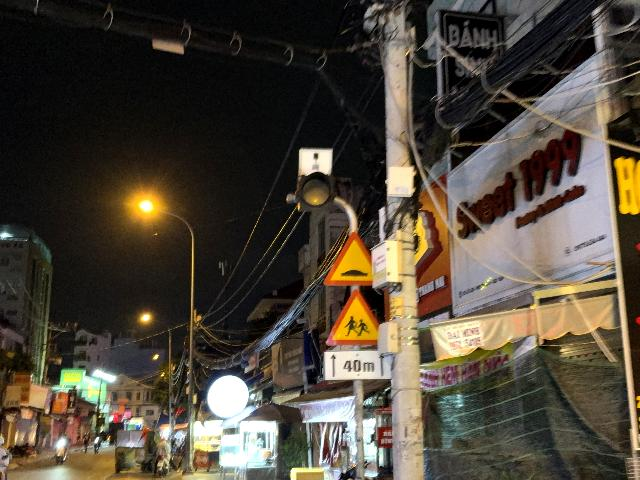duong-co-go-giam-toc: (324, 232, 371, 285)
tre-em-qua-duong: (326, 289, 379, 345)
